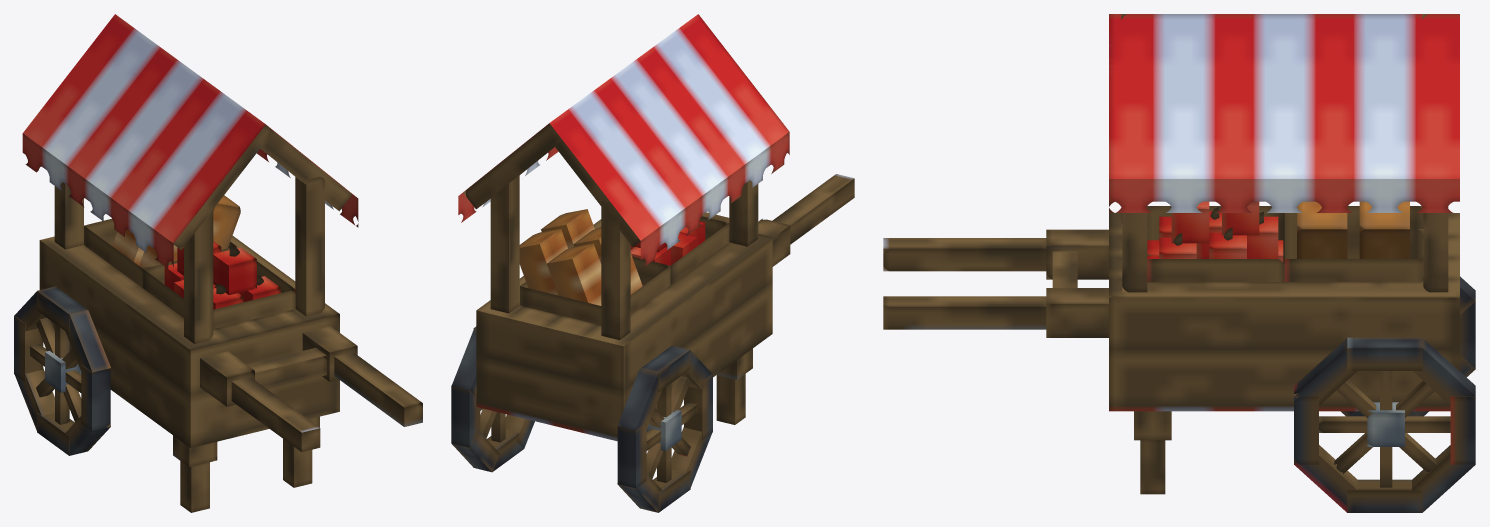
File: medieval_market_wagon_red.fbx
3 views of the same model, side by side, from view 1: azimuth 30°, elevation 25°; view 2: azimuth 150°, elevation 25°; view 3: azimuth 270°, elevation 25° (orthographic). The views are drawn at different scales.
Parts seen in each view (by area): view 1: octagon; view 2: octagon; view 3: octagon.
Part boxes in pixels (x1=…): octagon: x1=14, y1=14, x2=422, y2=512; octagon: x1=451, y1=14, x2=854, y2=512; octagon: x1=883, y1=14, x2=1475, y2=512.
Size of the model in its own units: 125 by 245 by 295.
1 material, 1 textured.
